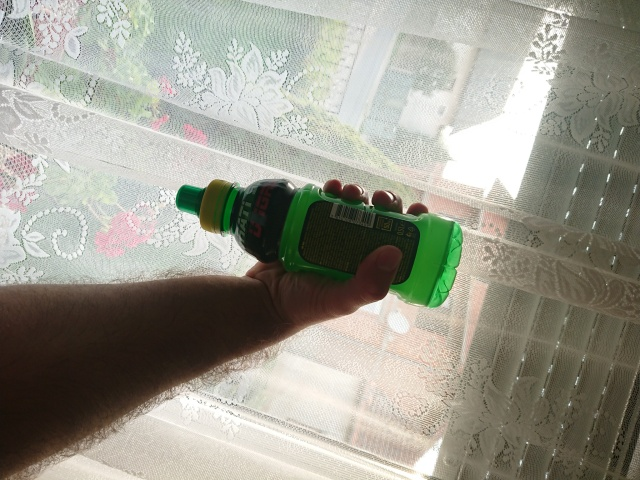Vindi Iso Sport Lemon-Grapefruit 500mL: (173, 176, 466, 310)
